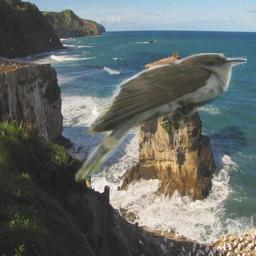Cuckoo: (75, 53, 247, 183)
